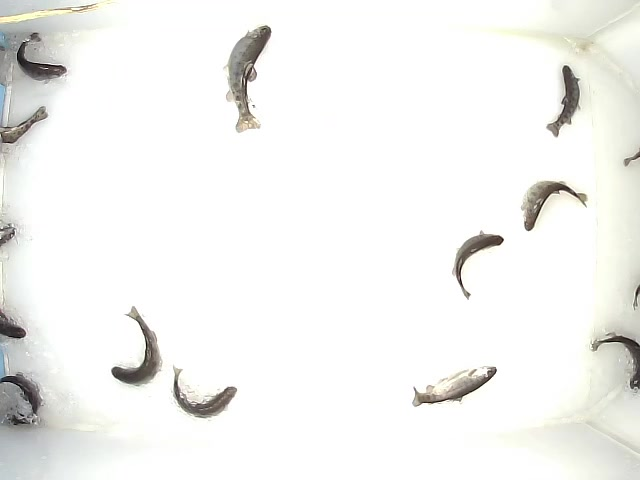fish: (223, 23, 273, 135), (110, 303, 163, 389), (450, 229, 506, 303), (410, 365, 499, 408), (518, 179, 590, 232), (170, 364, 238, 420), (544, 64, 584, 139), (15, 30, 68, 85)
